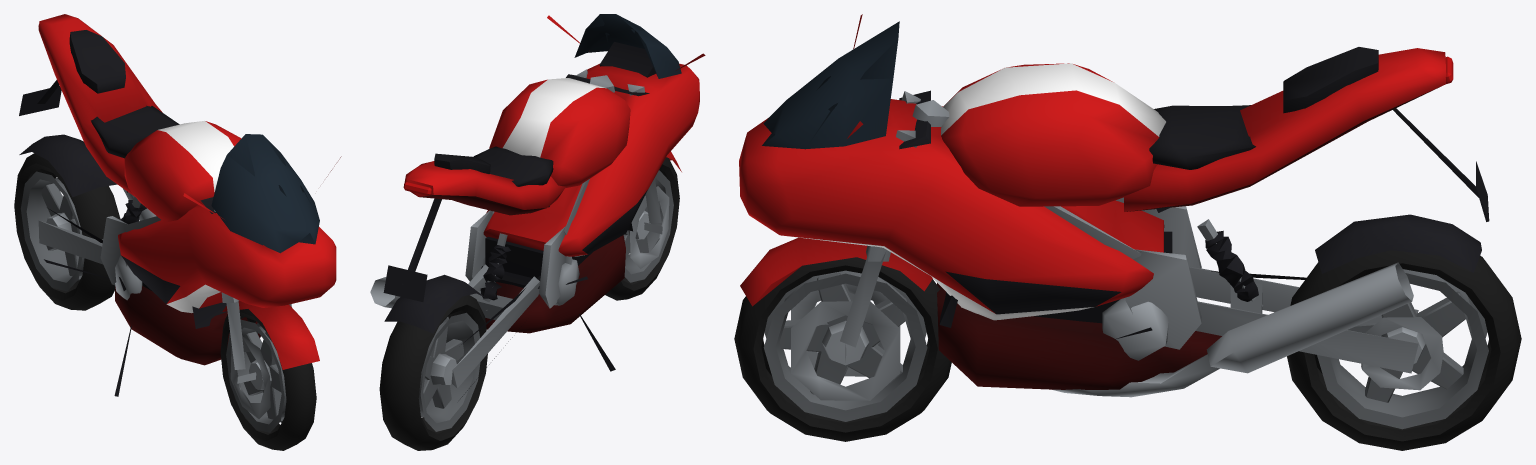
Rendered from crew.glb.
3 views of the same model, side by side, from view 1: azimuth 30°, elevation 25°; view 2: azimuth 150°, elevation 25°; view 3: azimuth 270°, elevation 25° (orthographic). The views are drawn at different scales.
Parts seen in each view (by area): view 1: body, wheel_rear, wheel_front; view 2: body, wheel_rear, wheel_front; view 3: body, wheel_rear, wheel_front.
Part boxes in pixels (x1,y1,x2,y2): body: [19, 14, 341, 418]; wheel_rear: [14, 153, 120, 310]; wheel_front: [220, 309, 316, 450]; body: [370, 14, 705, 398]; wheel_rear: [379, 295, 487, 450]; wheel_front: [605, 157, 679, 300]; body: [739, 14, 1489, 400]; wheel_rear: [1287, 250, 1521, 450]; wheel_front: [734, 257, 951, 441].
Size of the model in its own units: 0.6455 by 1.18 by 1.98.
